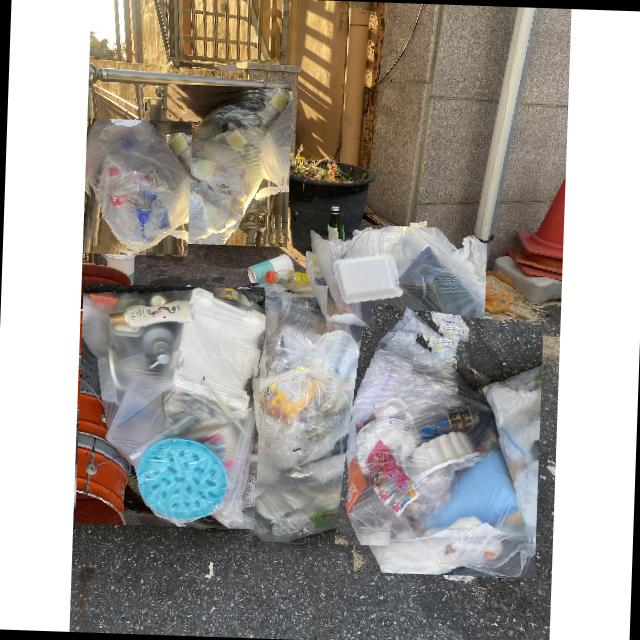general_trashbag: (449, 396, 450, 397)
other_trashbag: (356, 326, 531, 577), (81, 287, 263, 528), (249, 331, 397, 542), (162, 89, 292, 245), (309, 226, 486, 331), (87, 118, 190, 252), (250, 283, 326, 379)
